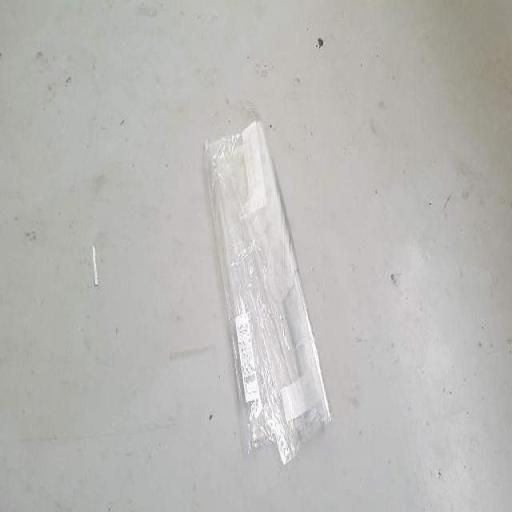plastic-bag: (202, 115, 333, 467)
